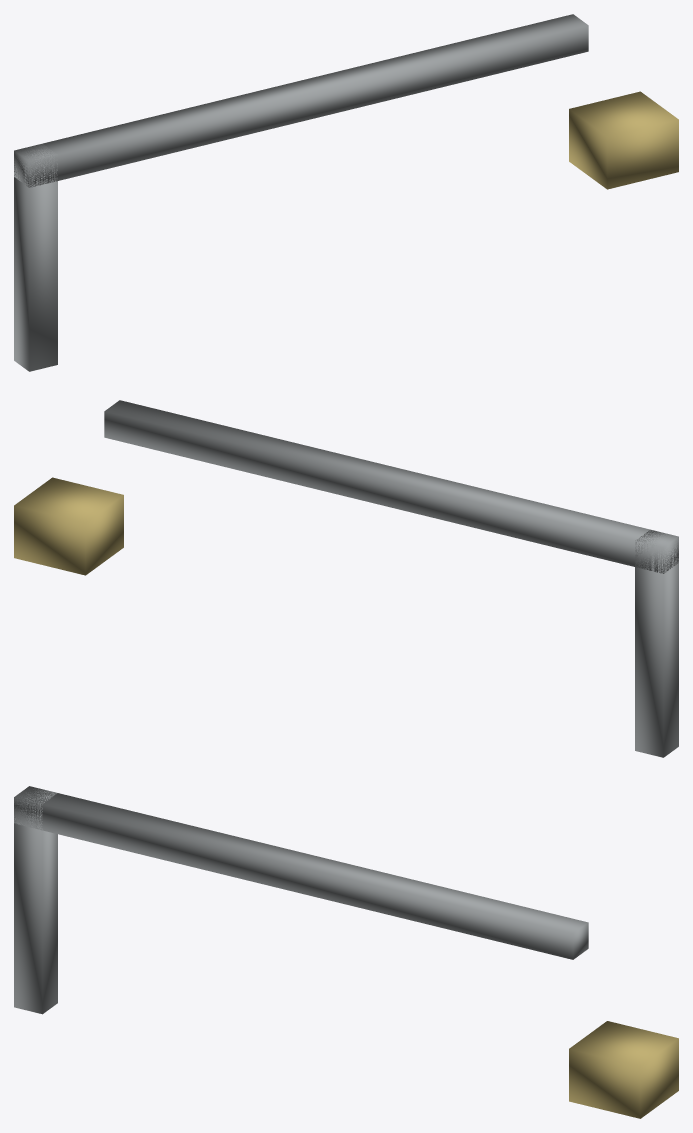
Rendered from grab_bar_08.glb.
3 renders of one model, top to bottom at view 1: azimuth 30°, elevation 25°; view 2: azimuth 150°, elevation 25°; view 3: azimuth 330°, elevation 25°, orthographic.
Visible parts, largest first — view 1: world; view 2: world; view 3: world.
Boxes of the visible parts, <box> form: world: <box>14,14,678,371</box>; world: <box>14,400,678,757</box>; world: <box>14,786,678,1118</box>.
Bounding box in the file's own units: 0.9968 × 0.3136 × 0.104.
